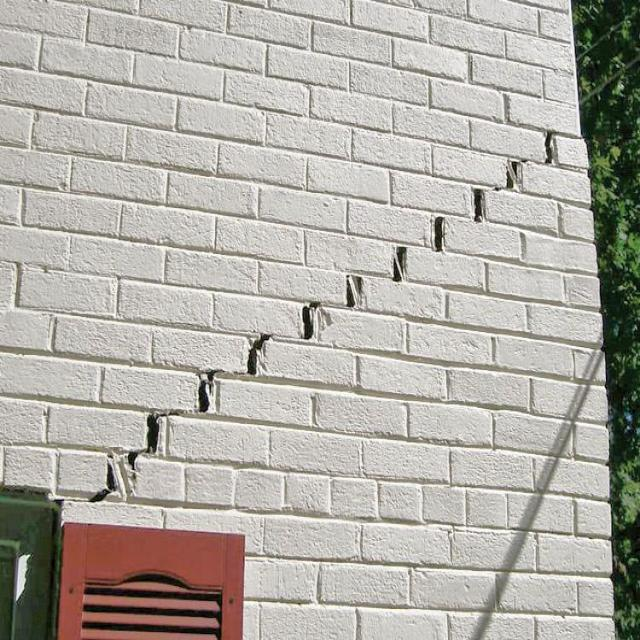Crack: (83, 126, 579, 504)
